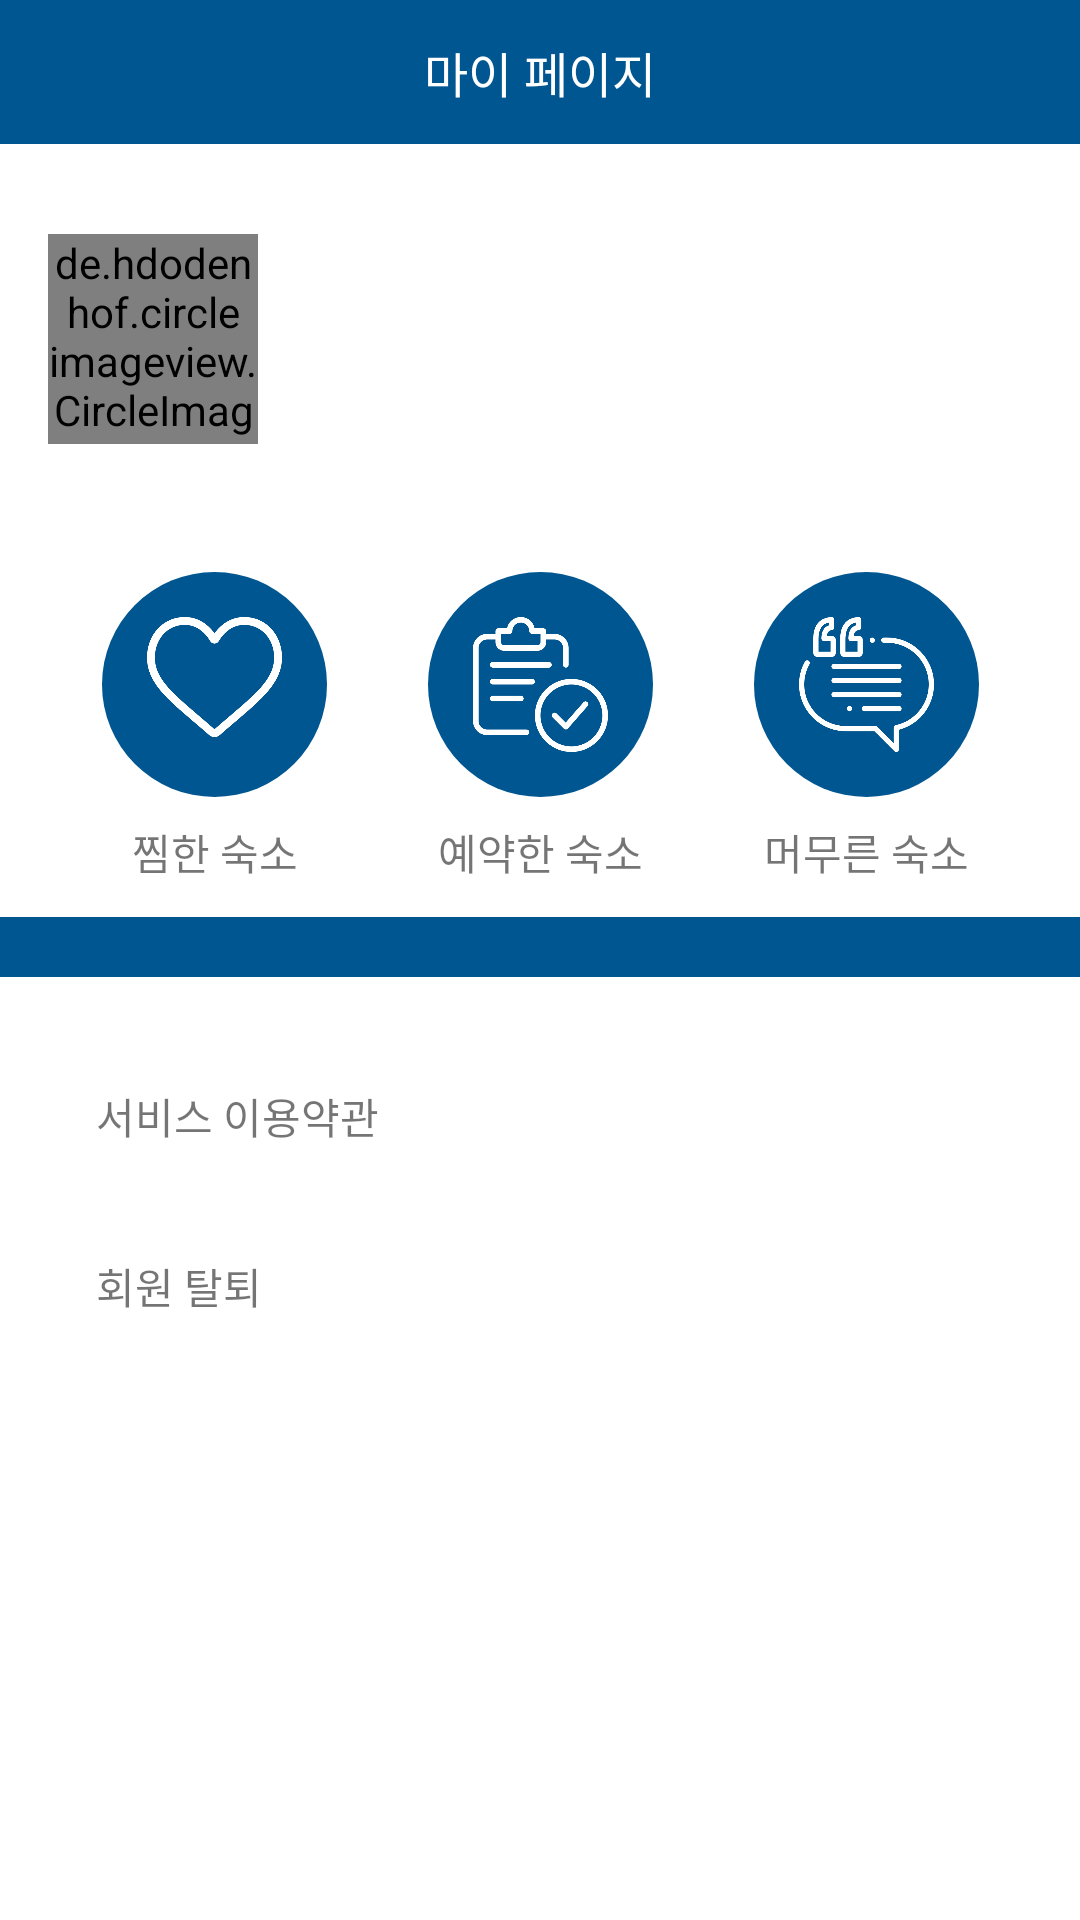

Icons on this 1080x1920 Android screen, each with its box as (x1,y1,x2,y2):
heart: (102,572,327,797)
register: (428,572,653,797)
review: (754,572,979,797)
